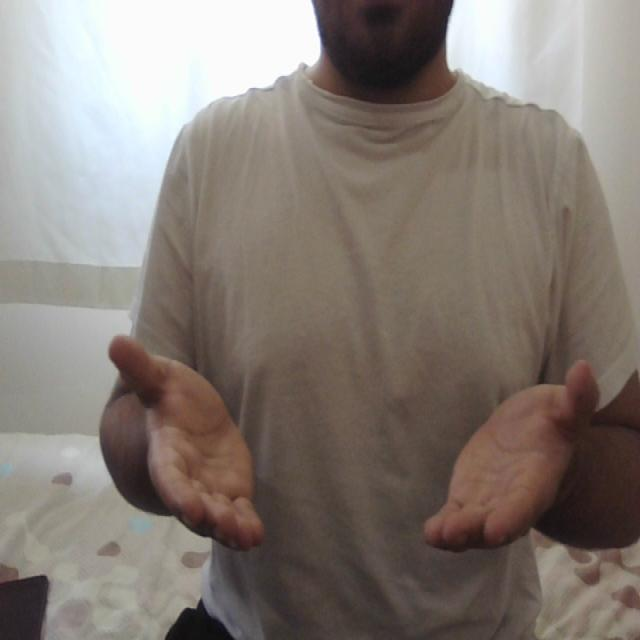Evet: (106, 330, 604, 556)
